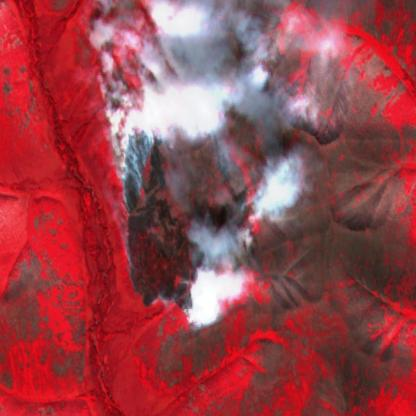fire: (114, 96, 160, 304), (182, 218, 249, 327)
